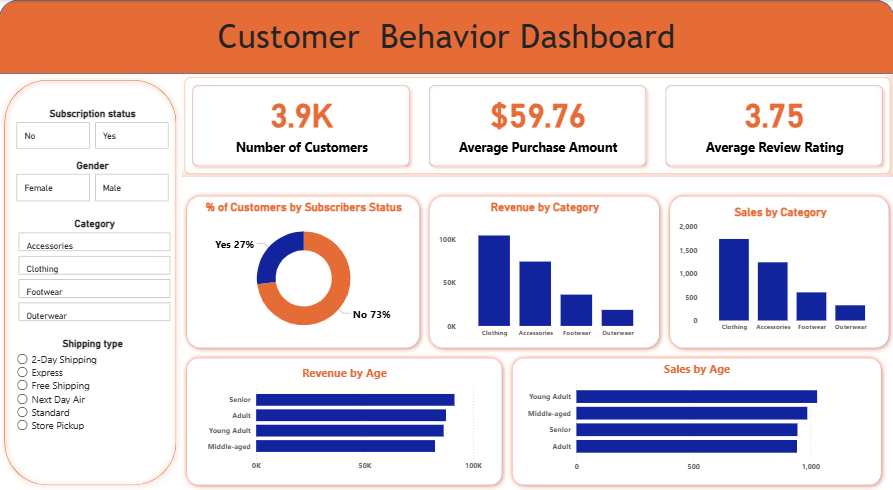

The page's visual inventory and layout, read from the dashboard file:
{"tool":"powerbi","page":{"name":"Page 1","canvas":[1500,820],"ordinal":0},"visuals":[{"type":"cardVisual","fields":{"Data":["public customer.Number of Customers","public customer.Average Purchase Amount","public customer.Average Review Rating"]},"box":[305.9,124.2,1193.6,172.5],"z":0},{"type":"shape","box":[0,0,1499.5,124.2],"z":1000},{"type":"textbox","box":[0,23,1499.5,119.6],"z":2000},{"type":"shape","box":[305.9,319.7,407.1,271.4],"z":3000},{"type":"donutChart","title":"% of  Customers by Subscribers Status","fields":{"Category":["public customer.subscription_status"],"Y":["CountNonNull(public customer.customer_id)"]},"box":[328.9,335.8,363.4,239.2],"z":4000},{"type":"shape","box":[712.9,319.7,402.5,271.4],"z":5000},{"type":"shape","box":[1115.4,319.7,384.1,271.4],"z":6000},{"type":"clusteredColumnChart","title":"Revenue by Category","fields":{"Category":["public customer.category"],"Y":["Sum(public customer.purchase_amount)"]},"box":[731.3,335.8,365.7,239.2],"z":7000},{"type":"clusteredColumnChart","title":"Sales by Category","fields":{"Category":["public customer.category"],"Y":["CountNonNull(public customer.customer_id)"]},"box":[1133.8,342.7,349.6,223.1],"z":8000},{"type":"shape","box":[0,124.2,305.9,696.8],"z":9000},{"type":"advancedSlicerVisual","fields":{"Values":["public customer.subscription_status"]},"box":[25.3,181.7,264.5,73.6],"z":10000},{"type":"advancedSlicerVisual","fields":{"Values":["public customer.gender"]},"box":[25.3,266.8,264.5,75.9],"z":11000},{"type":"advancedSlicerVisual","fields":{"Values":["public customer.category"]},"box":[27.6,365.7,264.5,179.4],"z":12000},{"type":"listSlicer","title":"Shipping type","fields":{"Values":["public customer.shipping_type"]},"box":[25.3,565.7,264.5,204.7],"z":13000},{"type":"shape","box":[850.9,591,634.7,230],"z":13500},{"type":"clusteredBarChart","title":"Sales by Age ","fields":{"Category":["public customer.age_group"],"Y":["CountNonNull(public customer.customer_id)"]},"box":[878.5,604.8,579.5,195.5],"z":14000},{"type":"shape","box":[305.9,591,545,230],"z":16500},{"type":"clusteredBarChart","title":"Revenue by Age ","fields":{"Category":["public customer.age_group"],"Y":["Sum(public customer.purchase_frequency_days)"]},"box":[342.7,611.7,471.5,186.3],"z":17000}]}

Visuals, with their boxes in screenshot pixels (x1, y1, x2, y2), scaled from the page's 1500x820 canvas onto the 893x490 screenshot:
cardVisual - public customer.Number of Customers x public customer.Average Purchase Amount: box=[182, 74, 892, 177]
shape: box=[0, 0, 892, 74]
textbox: box=[0, 14, 892, 85]
shape: box=[182, 191, 424, 353]
"% of  Customers by Subscribers Status" donutChart: box=[196, 201, 412, 344]
shape: box=[424, 191, 664, 353]
shape: box=[664, 191, 892, 353]
"Revenue by Category" clusteredColumnChart: box=[435, 201, 653, 344]
"Sales by Category" clusteredColumnChart: box=[675, 205, 883, 338]
shape: box=[0, 74, 182, 489]
advancedSlicerVisual - public customer.subscription_status: box=[15, 109, 173, 153]
advancedSlicerVisual - public customer.gender: box=[15, 159, 173, 205]
advancedSlicerVisual - public customer.category: box=[16, 219, 174, 326]
"Shipping type" listSlicer: box=[15, 338, 173, 460]
shape: box=[507, 353, 884, 489]
"Sales by Age " clusteredBarChart: box=[523, 361, 868, 478]
shape: box=[182, 353, 507, 489]
"Revenue by Age " clusteredBarChart: box=[204, 366, 485, 477]
